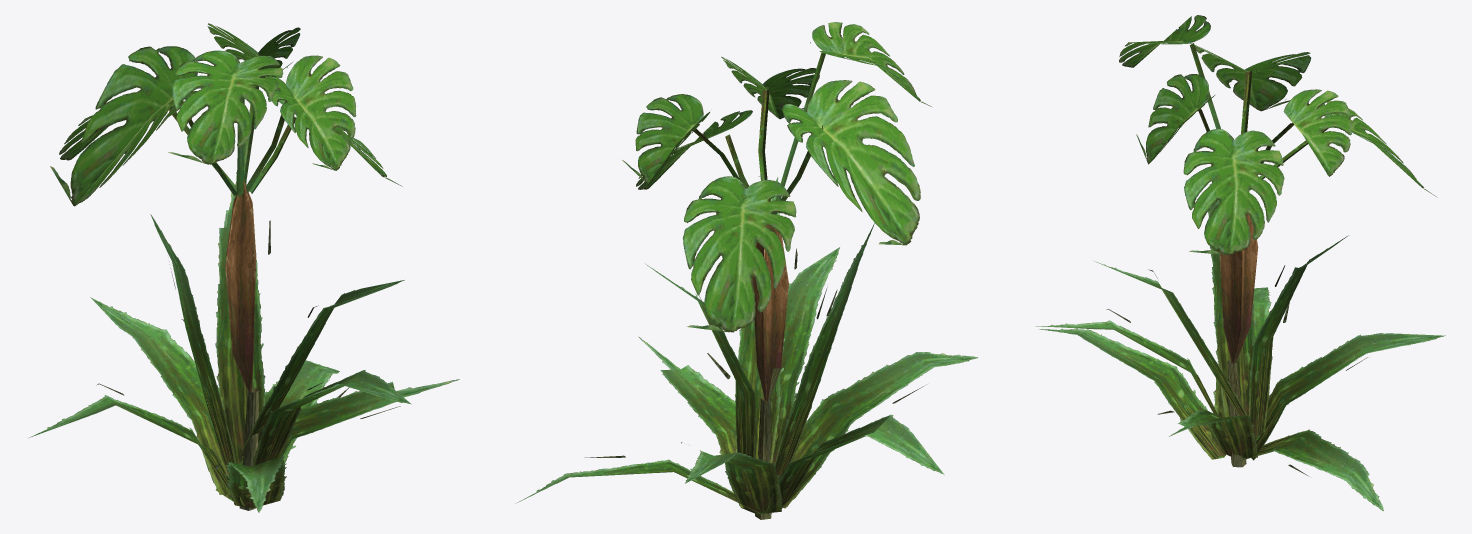
File: 3004_Item_cao_3.FBX
The picture shows the model from 3 angles, left to right: view 1: azimuth 30°, elevation 25°; view 2: azimuth 150°, elevation 25°; view 3: azimuth 270°, elevation 25°; orthographic projection. The views are drawn at different scales.
Visible parts, largest first — view 1: 3004_Item_cao_3; view 2: 3004_Item_cao_3; view 3: 3004_Item_cao_3.
Part boxes in pixels (x1,y1,x2,y2): 3004_Item_cao_3: [29, 23, 459, 512]; 3004_Item_cao_3: [515, 22, 977, 519]; 3004_Item_cao_3: [1035, 15, 1445, 510].
Size of the model in its own units: 210 by 245 by 232.
